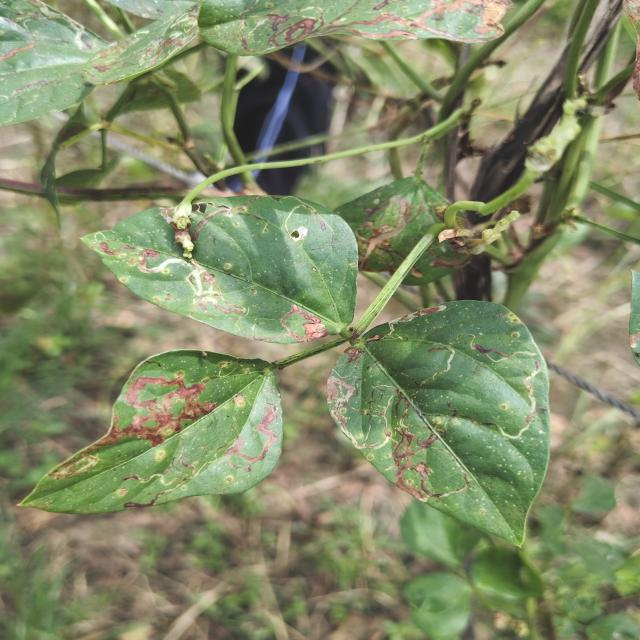leaf-healthy: (327, 315, 550, 540)
sitaw-aphid-low: (86, 196, 358, 343), (95, 350, 282, 507)
